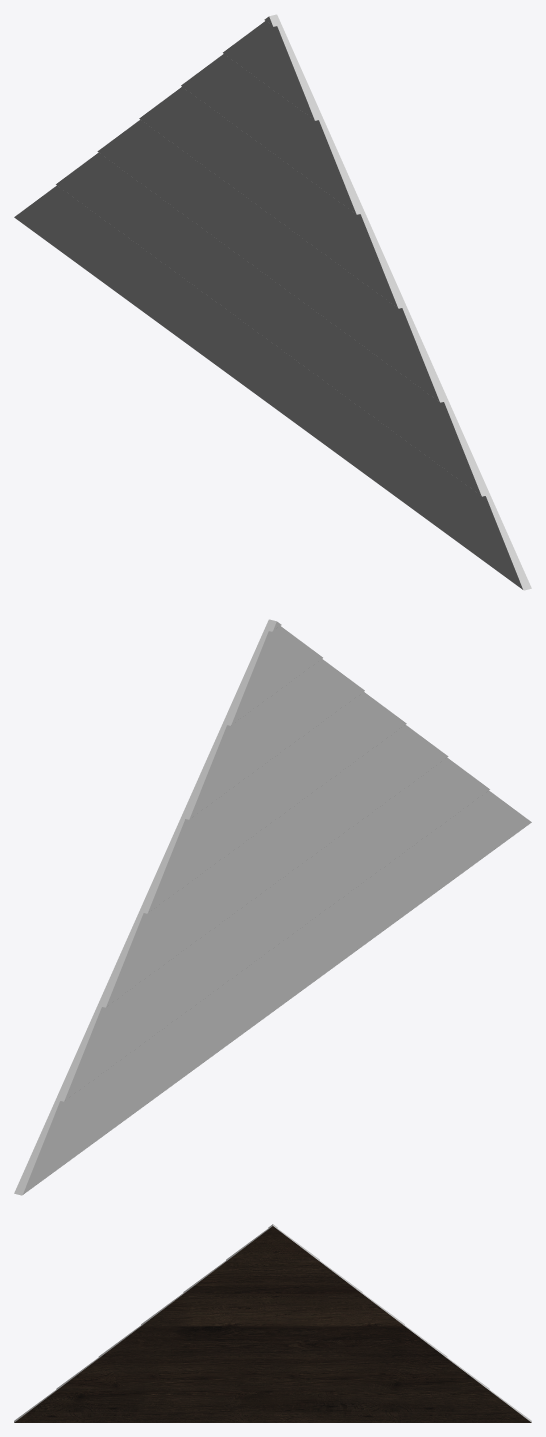
File: isolated_plate_wall_roof_3500.obj
3 renders of one model, top to bottom at view 1: azimuth 30°, elevation 25°; view 2: azimuth 150°, elevation 25°; view 3: azimuth 270°, elevation 25°, orthographic. The views are drawn at different scales.
Parts seen in each view (by area): view 1: isolated_plate_wall_roof_3500; view 2: isolated_plate_wall_roof_3500; view 3: isolated_plate_wall_roof_3500.
Boxes of the visible parts, bbox=[...] form: isolated_plate_wall_roof_3500: bbox=[14, 14, 531, 590]; isolated_plate_wall_roof_3500: bbox=[14, 619, 531, 1195]; isolated_plate_wall_roof_3500: bbox=[14, 1224, 531, 1422].
Size of the model in its own units: 0.0249 by 1.1 by 2.62.
